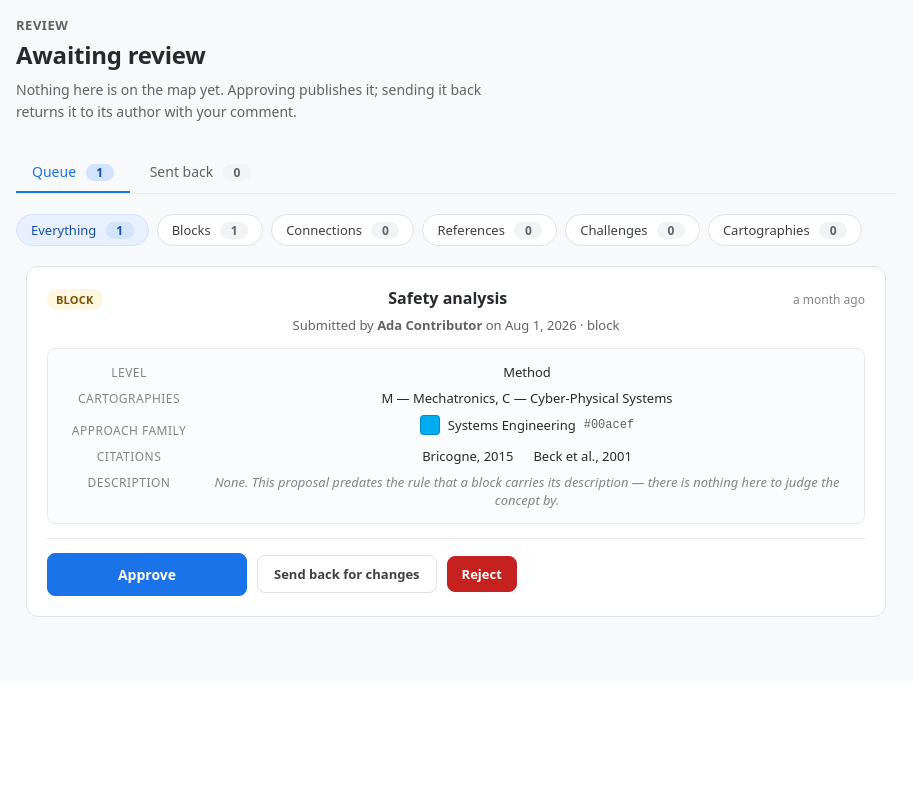
Scenario: the three decisions › blocks reject until a reason is given, and warns there is no undo
expect the text "Safety analysis" is shown: met, box left=388, top=287, right=507, bottom=309
Click the button "Reject": (482, 574) left=447, top=556, right=517, bottom=592
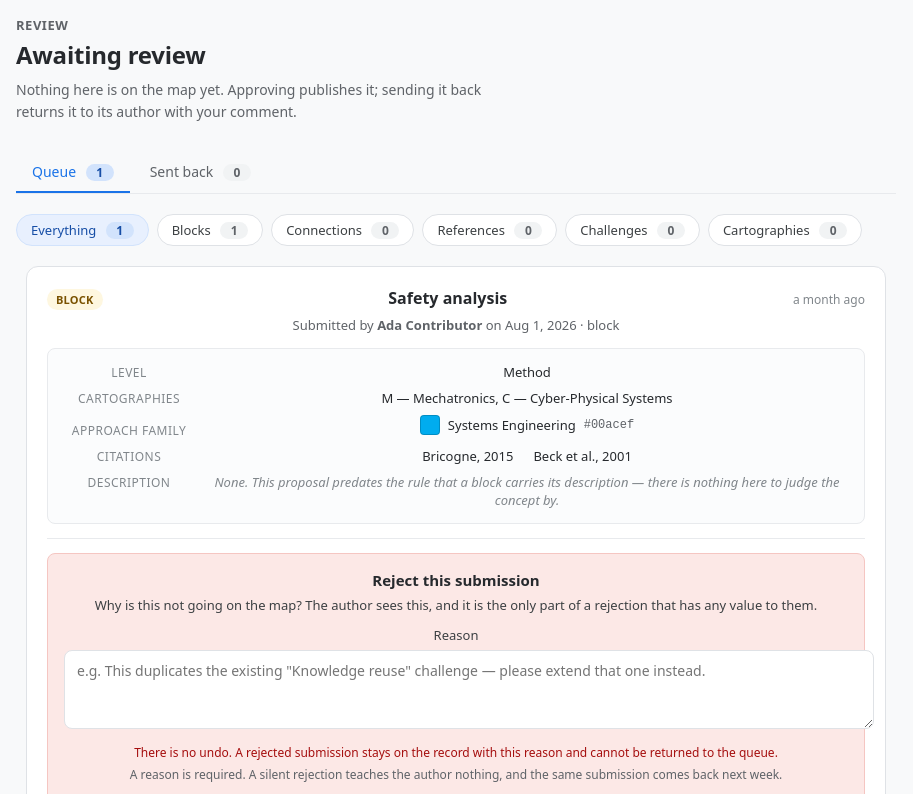
expect the text "There is no undo" is shown: met, box left=134, top=744, right=778, bottom=761
expect the text "A silent rejection teaches the author nothing" is shown: met, box left=130, top=766, right=782, bottom=783
Replace the text in the text box labelled "Reason" with "Duplicate.": (469, 689) left=64, top=650, right=874, bottom=729
(page scrolled)
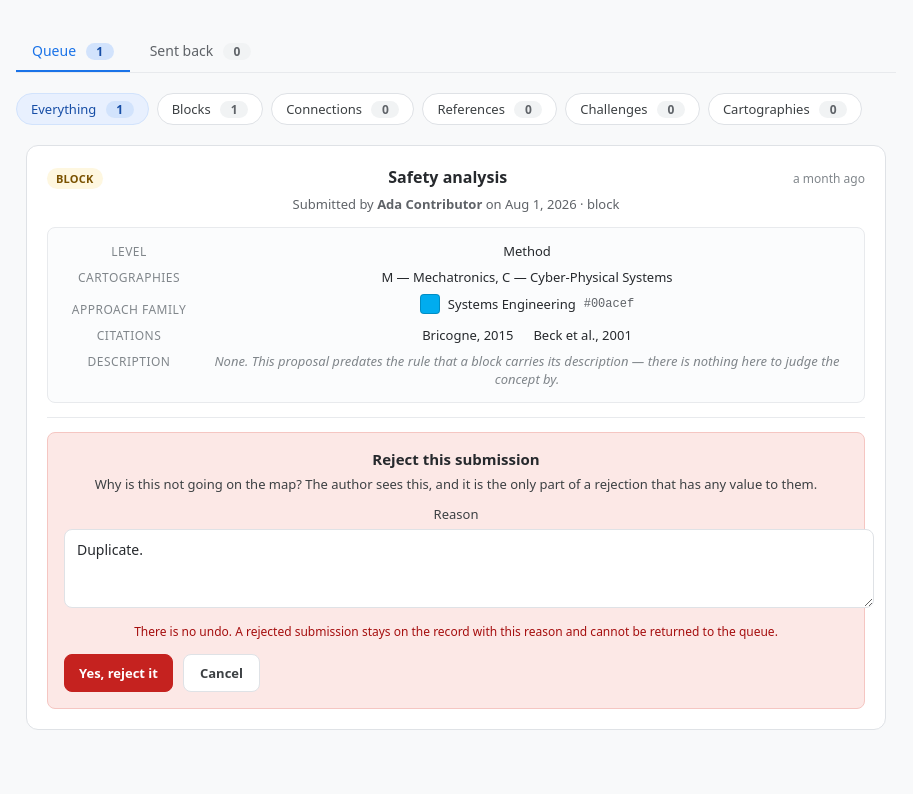
expect the button "Yes, reject it" is enabled: met, box left=64, top=654, right=173, bottom=692
